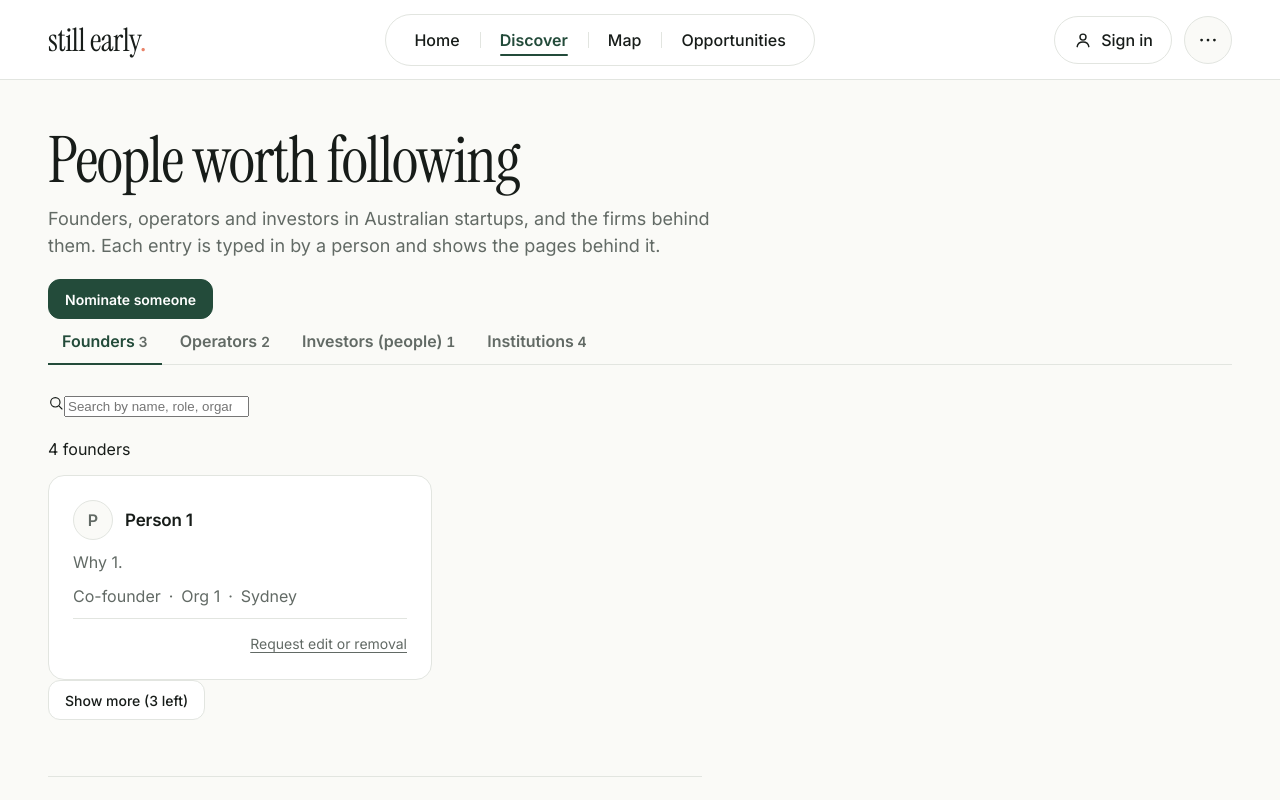
an index of names, a way to nominate, and a way to ask for more › keeps what it has and says so when the next page cannot load
Expected: the heading "Person 1" is shown, 125,510 -> 193,530
Click the button "Show more (3 left)": (127, 700) 48,680 -> 205,720
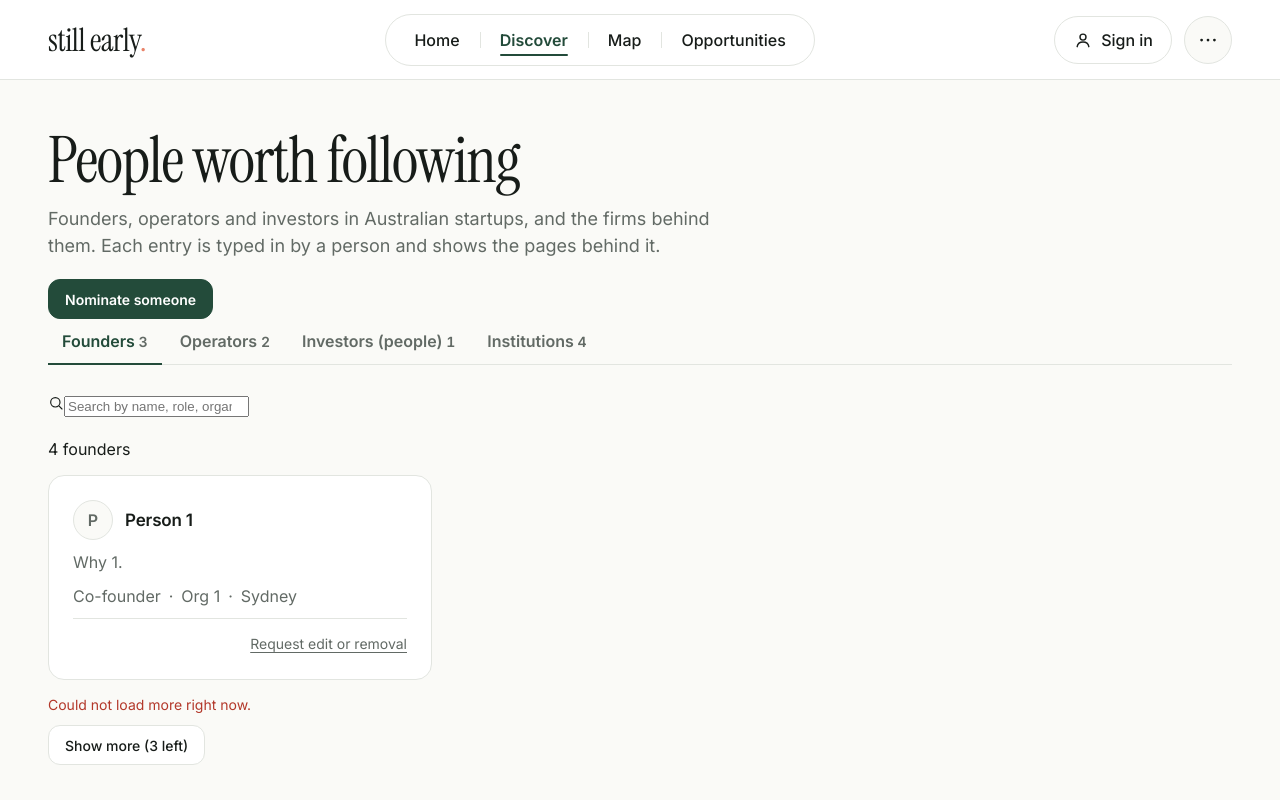
Expected: the heading "Person 1" is shown, 125,510 -> 193,530
Expected: the message "Could not load more right now." is shown, 48,696 -> 251,713
